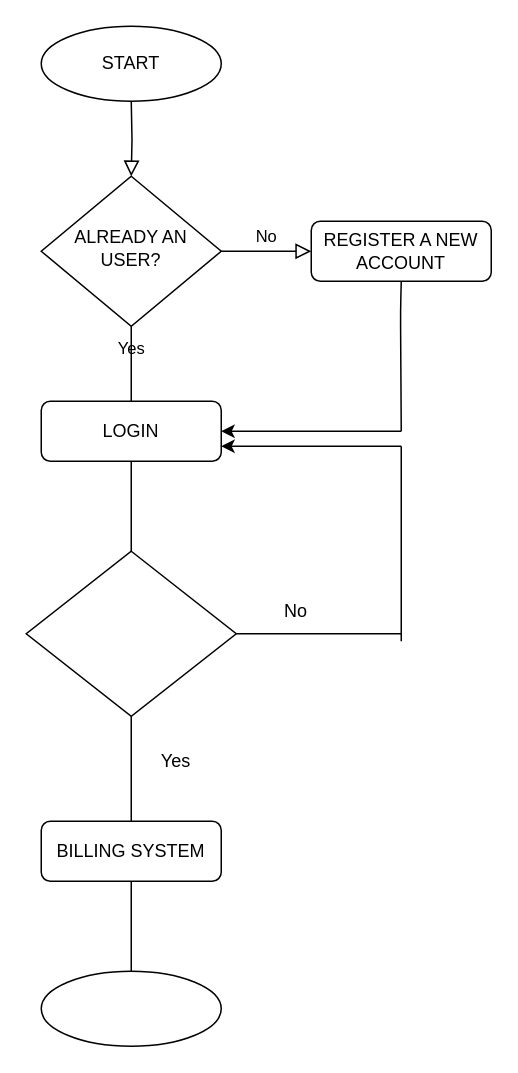
The diagram is 518 pixels wide and 1073 high, and some of its shapes have lost their labels. Each missing label, with the centre of its shape:
END: (x=130, y=1008)
VALID ACCOUNT CREDENTIALS?: (x=130, y=633)
